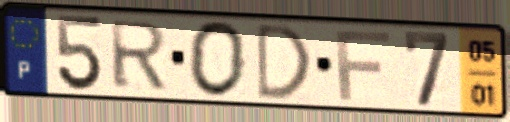5: (54, 12, 106, 94)
7: (401, 29, 453, 109)
D: (254, 21, 314, 103)
F: (332, 28, 393, 104)
O: (185, 19, 249, 101)
R: (107, 18, 171, 91)
